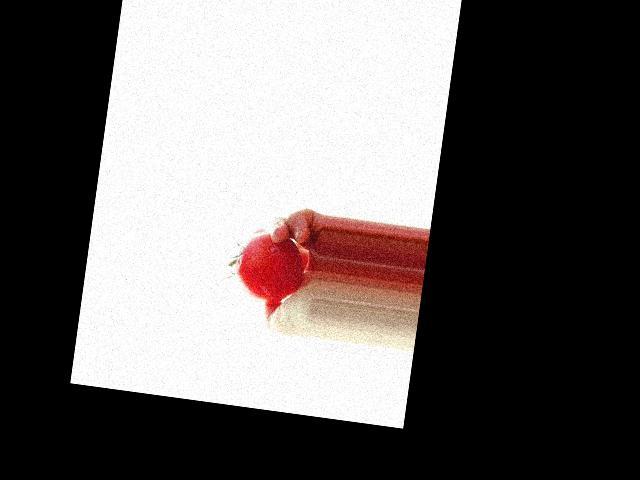tomato: (231, 226, 308, 305)
